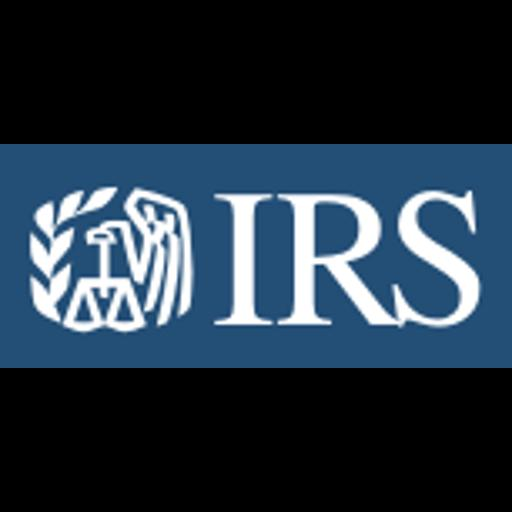IRS: (0, 144, 512, 368)
